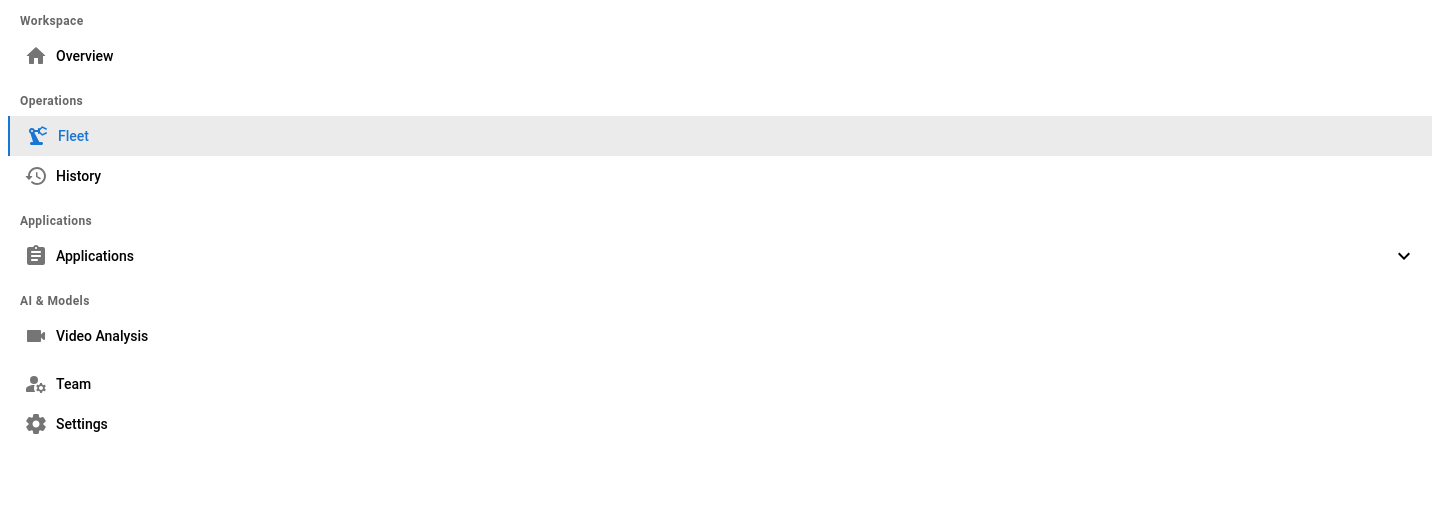
Test: MenuContent nav selection › hides mission execution destinations for viewers
This screenshot has width=1440, height=523.
Click the button "Applications": (95, 256) [8,236,1432,276]
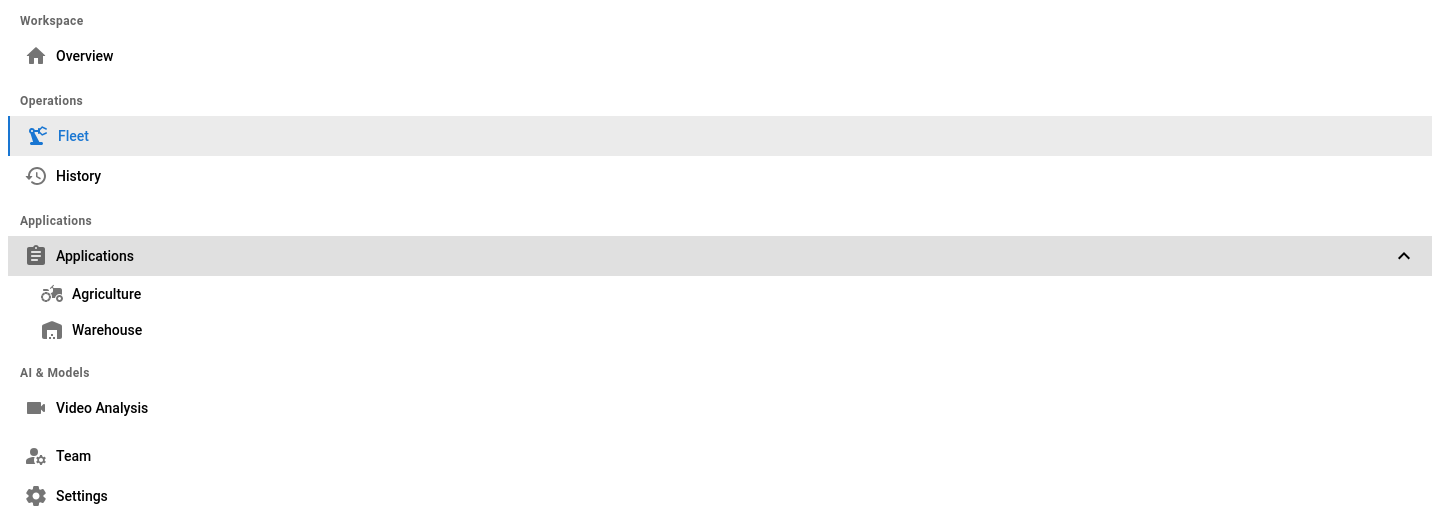
Check: the link "Agriculture" is shown, box [40,282,141,306]
